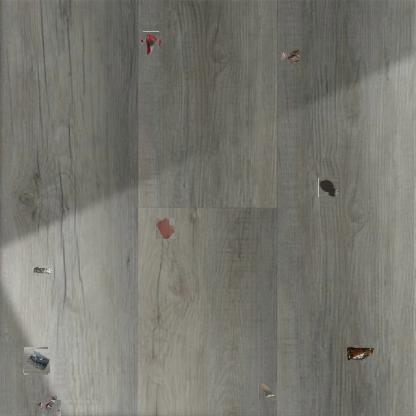dirty: (23, 348, 49, 374), (344, 345, 374, 363), (141, 34, 162, 54), (280, 48, 302, 66), (38, 398, 59, 416), (258, 382, 278, 400), (31, 264, 53, 276)
liquid: (155, 217, 175, 239), (319, 177, 339, 198)
